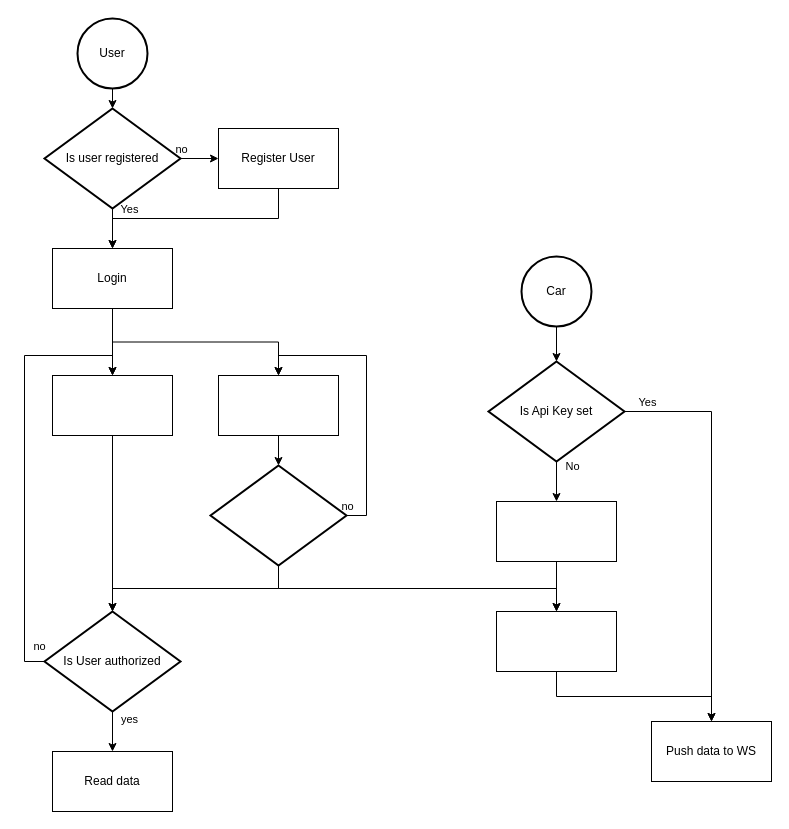
Some shapes in this 789 by 829 pixel diagram are drawn without their labels. The centre of each missing label's shape, as x and y in pixels:
Is Car in registration list: [278,515]
Register Car: [278,405]
Register in waiting for registration list: [556,531]
Select car: [112,405]
Wait for registration: [556,641]
